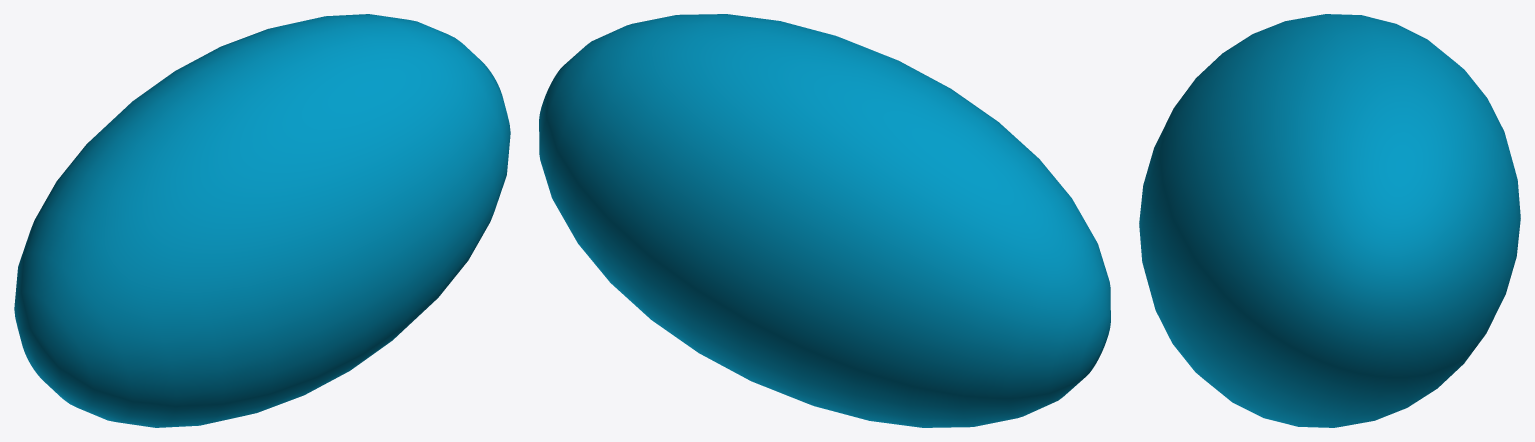
File: 打火石(teapot(1)上龍眼寶石).FBX
The picture shows the model from 3 angles, left to right: view 1: azimuth 30°, elevation 25°; view 2: azimuth 150°, elevation 25°; view 3: azimuth 270°, elevation 25°; orthographic projection. The views are drawn at different scales.
Parts seen in each view (by area): view 1: Sphere001; view 2: Sphere001; view 3: Sphere001.
Part boxes in pixels (x1,y1,x2,y2): Sphere001: [14, 14, 510, 427]; Sphere001: [539, 14, 1110, 427]; Sphere001: [1139, 14, 1520, 427].
Bounding box in the file's own units: 9.55 × 6.2 × 5.49.
